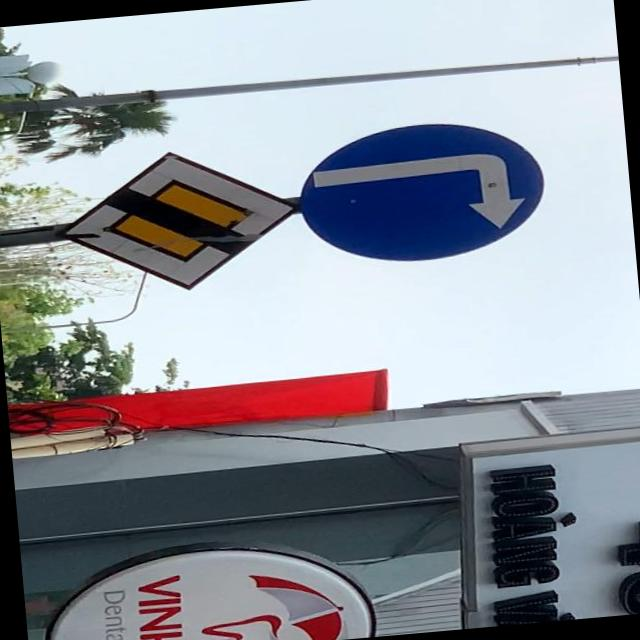R-301d: (292, 114, 551, 269)
